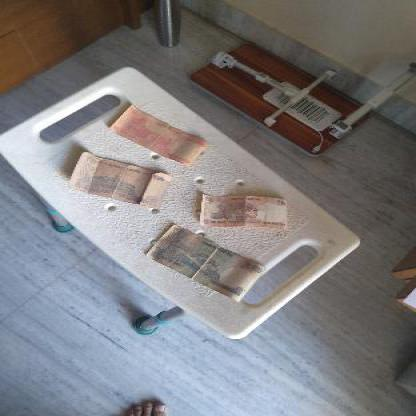Old100Back: (137, 224, 263, 300)
Old10Back: (201, 198, 287, 224)
Old20Back: (108, 104, 209, 158)
Old50Back: (73, 162, 170, 207)
